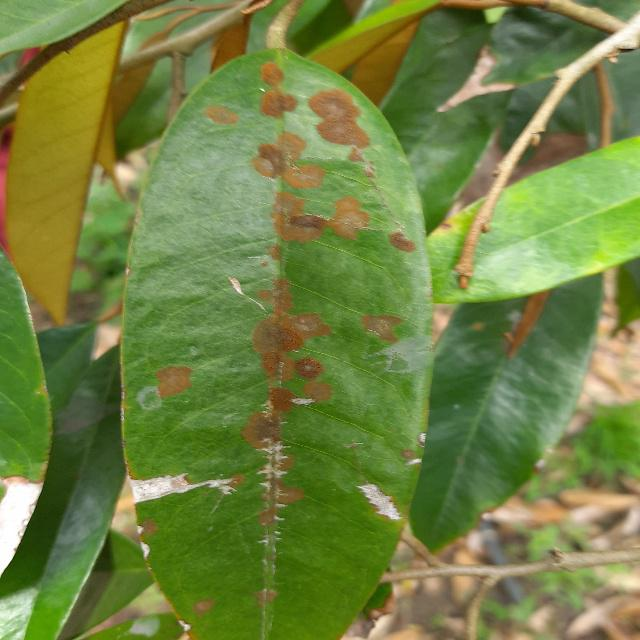Algal Leaf Spot: (111, 37, 443, 639)
